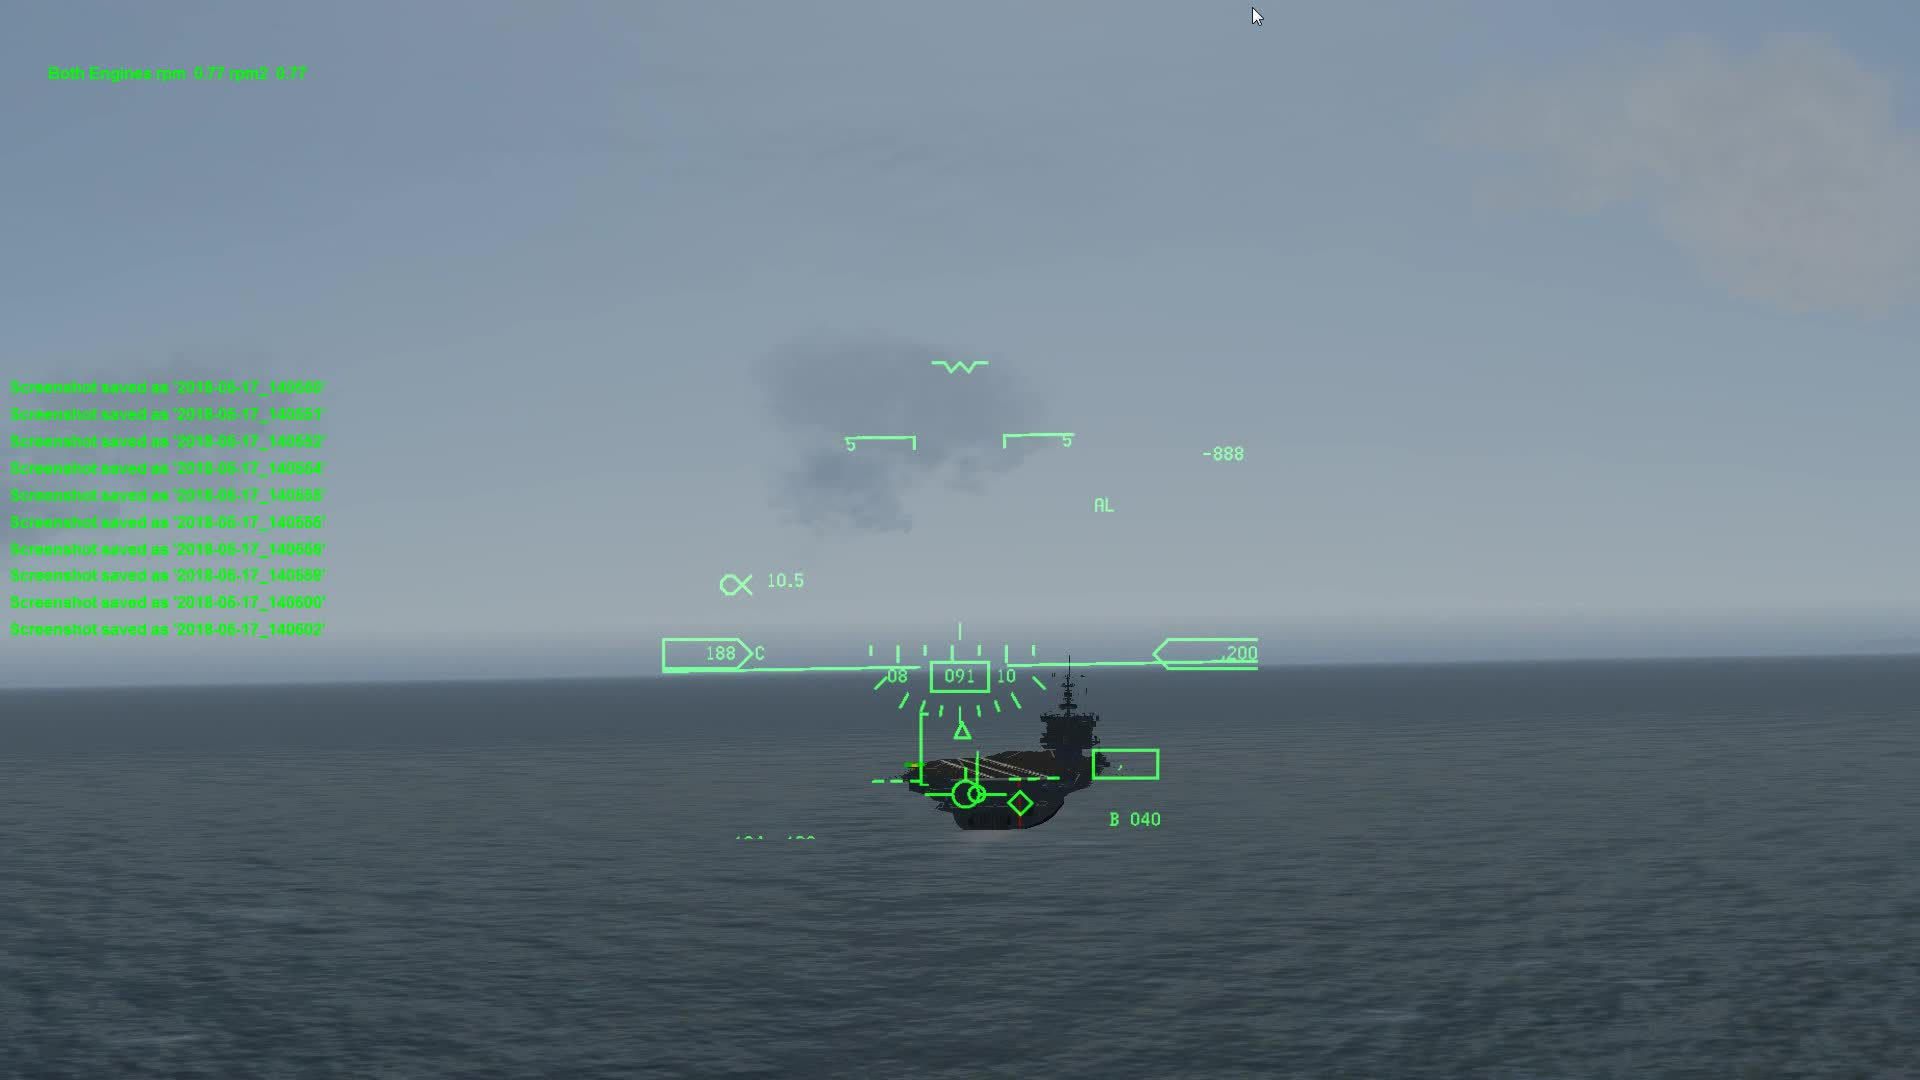speed vector: (928, 769, 1002, 814)
